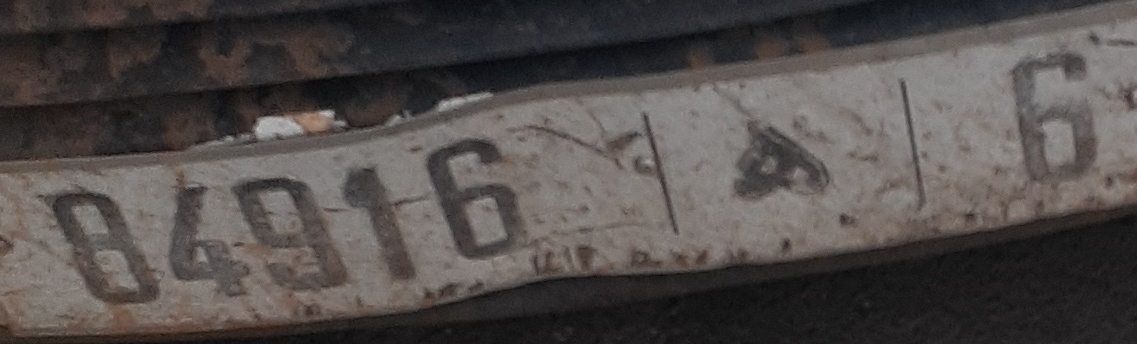1: (338, 165, 424, 291)
4: (164, 181, 255, 303)
6: (418, 134, 534, 265), (1003, 52, 1108, 186)
8: (47, 187, 161, 311)
9: (231, 174, 354, 299)
h: (717, 115, 837, 204)
